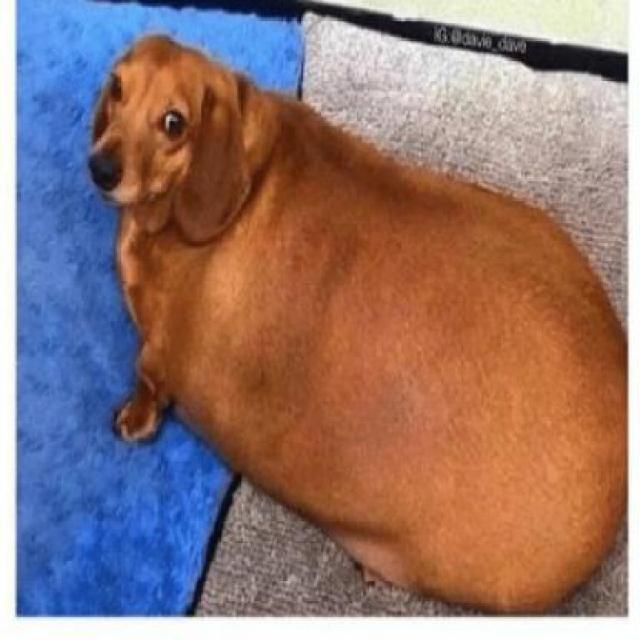Dog: (83, 34, 631, 612)
